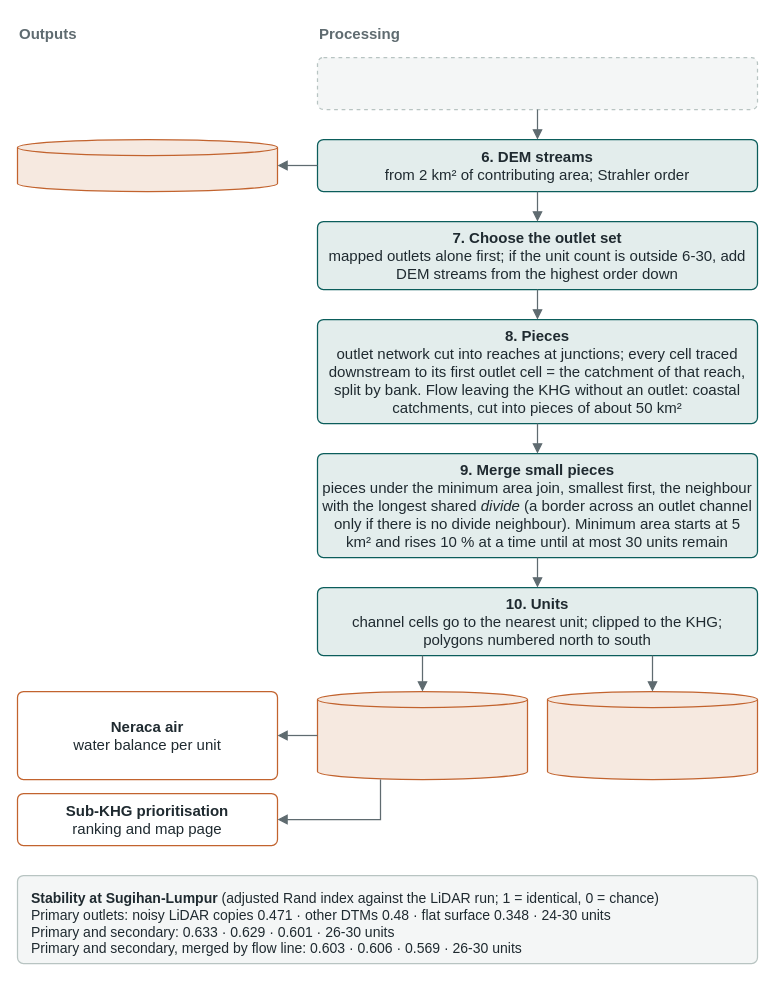
Image size: 776x981. Some labels were removed from this diagram. The centre of each missing label's shape, as x and y in pixels:
"5. Condition and route D8 flow direction; flow accumulation" belongs at (537,83).
"Delineation report settings, inputs, pieces, units, areas" belongs at (652,735).
"Stream order grid" belongs at (147,165).
"Sub-KHG units polygons" belongs at (422,735).
